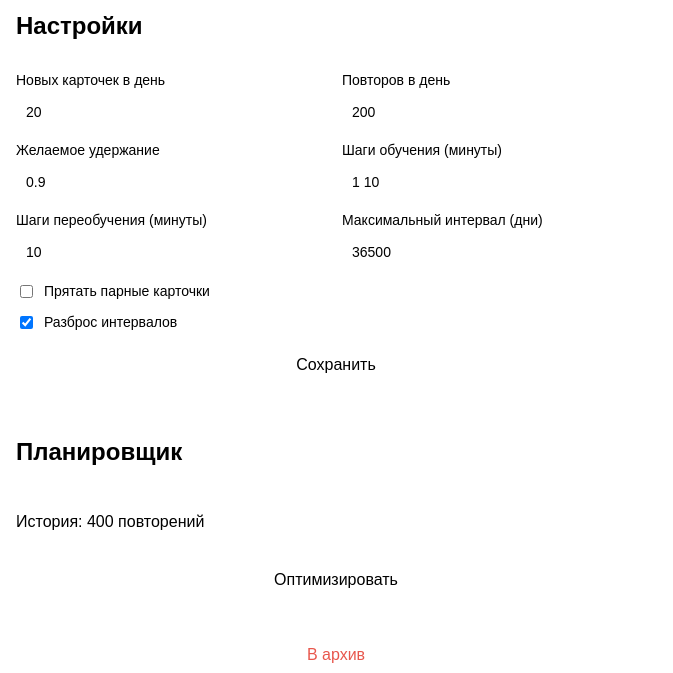
FSRS optimizer › shows an availability hint when the server lacks the optimizer
The image size is (673, 673).
(page scrolled)
Click the button "Оптимизировать" at point(336, 580), box top-left (16, 559), bottom-right (656, 601)
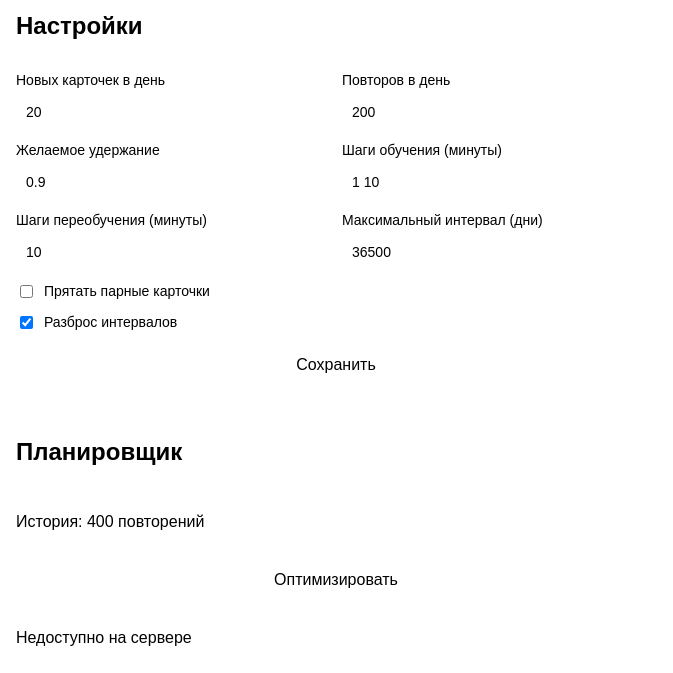
Result: the message reads "Недоступно на сервере" at top-left (16, 629), bottom-right (192, 646)
